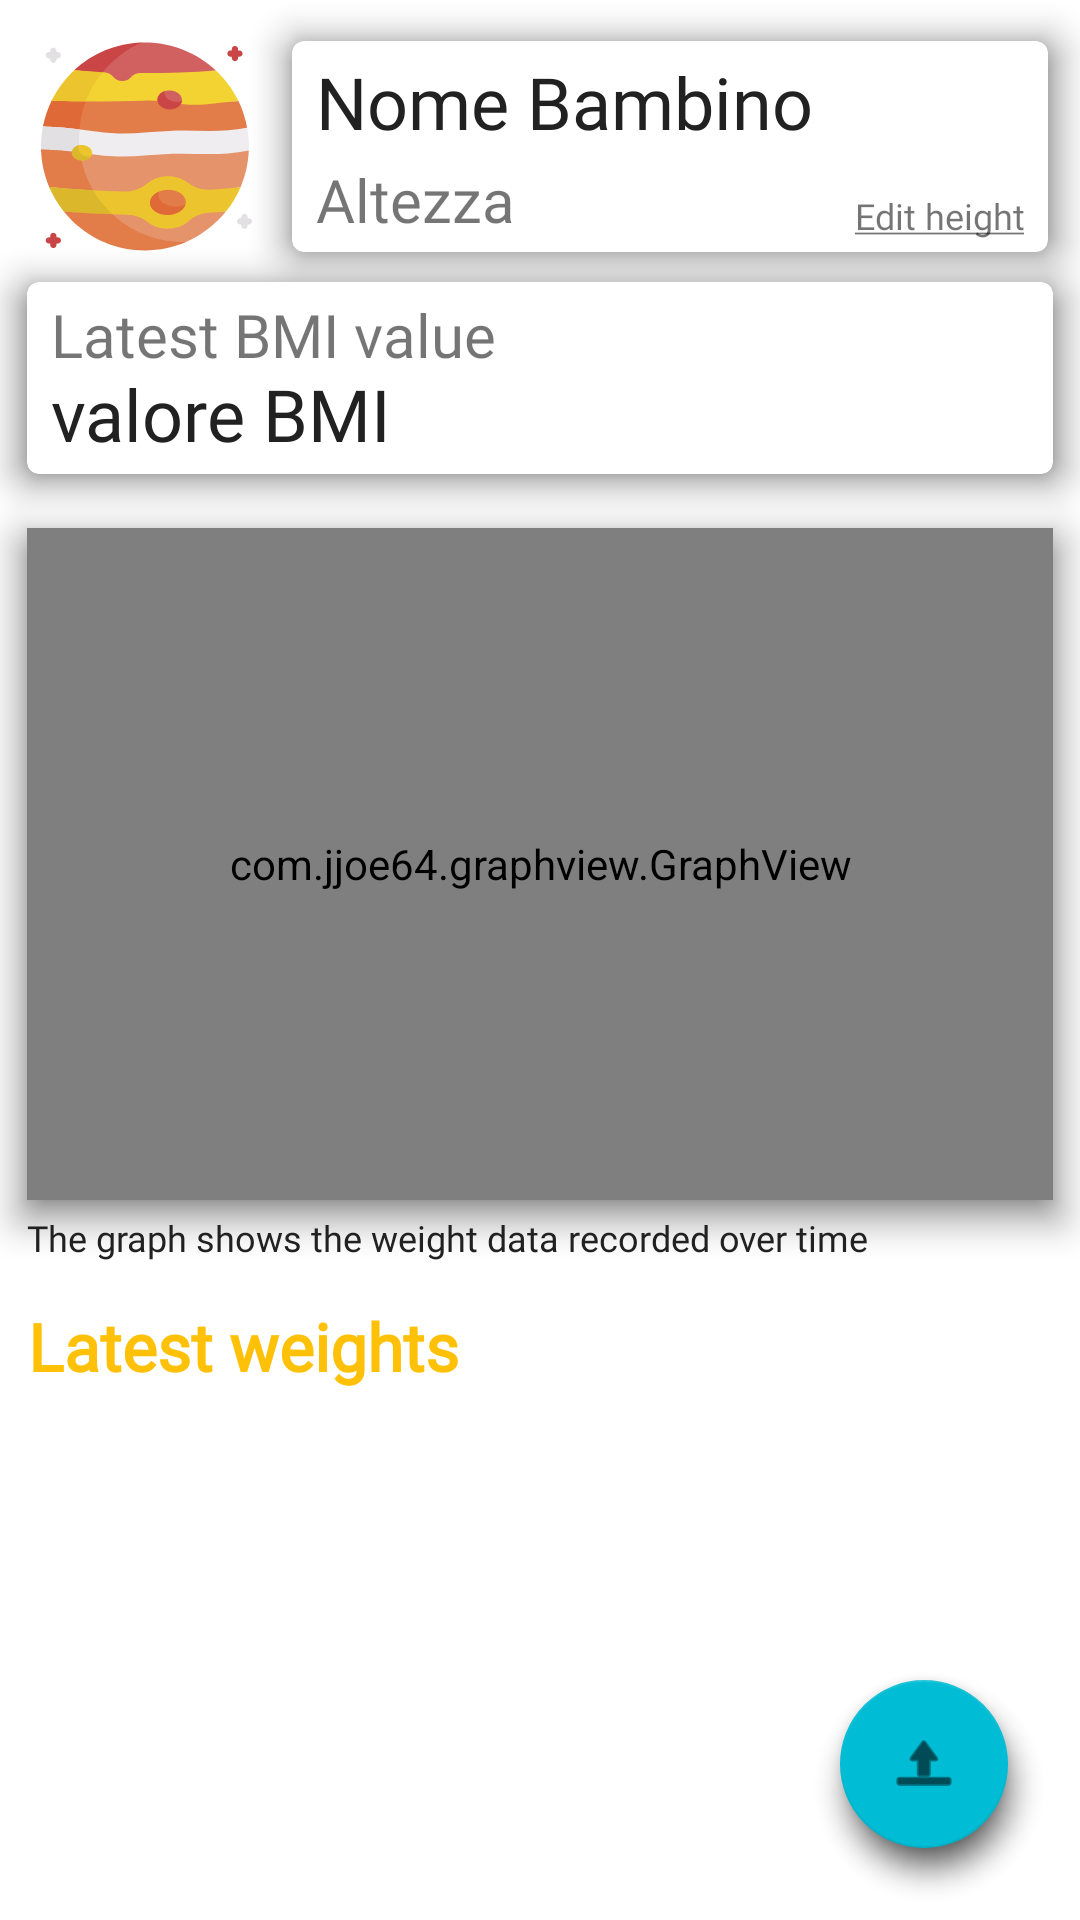

Icon click points for this 1080 x 1920 phone screenshot, format (x,y):
jupiter: (146,146)
upload you tube: (924,1764)
